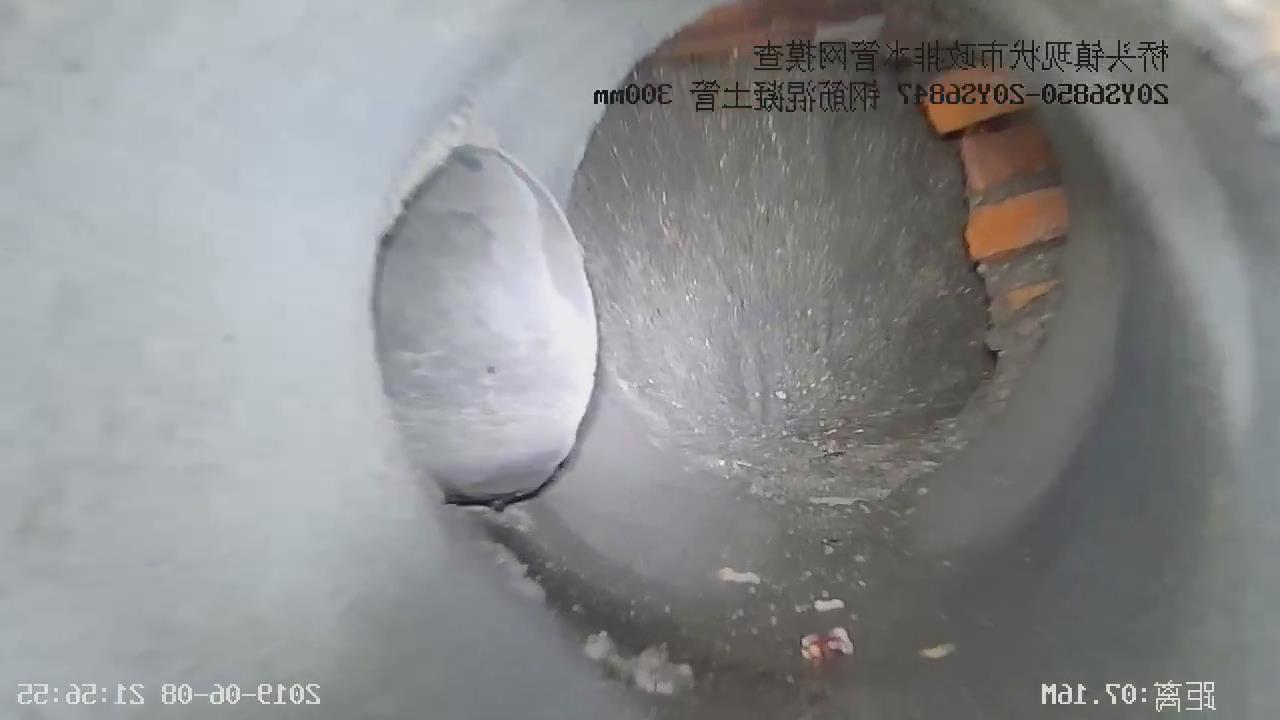CQBG: (658, 0, 1069, 269), (988, 280, 1058, 314)
ZGAJ: (373, 144, 599, 506)
